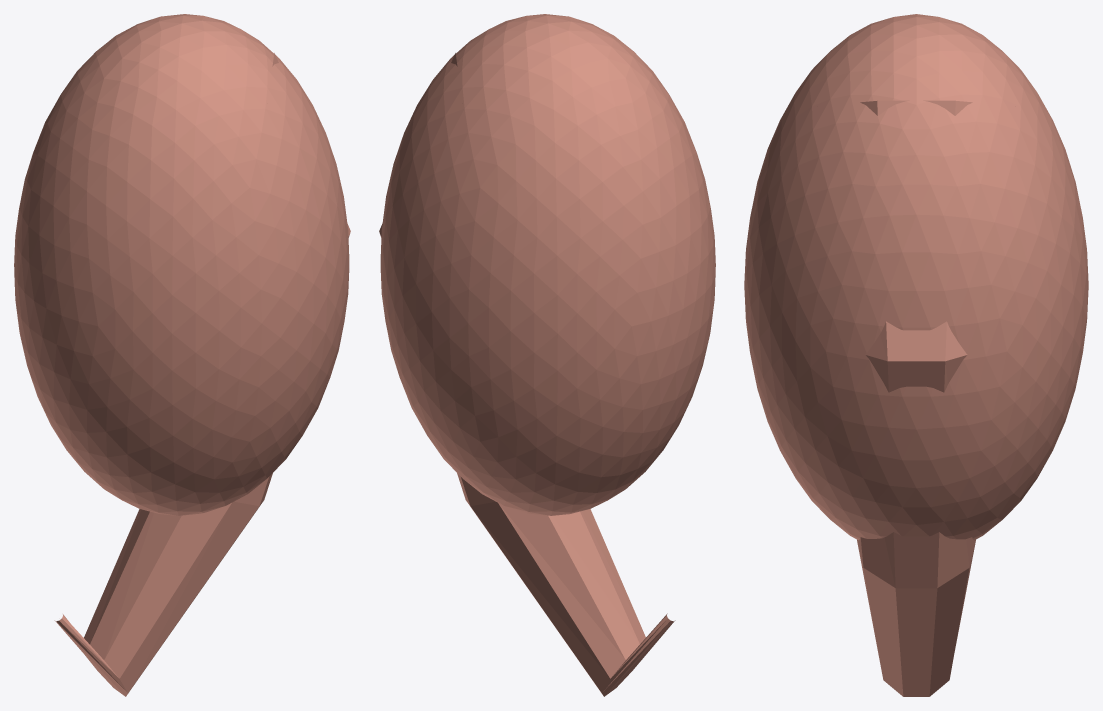
3 renders of one model, left to right at view 1: azimuth 30°, elevation 25°; view 2: azimuth 150°, elevation 25°; view 3: azimuth 270°, elevation 25°, orthographic. The views are drawn at different scales.
Visible parts, largest first — view 1: seahorse_00, seahorse_01; view 2: seahorse_00, seahorse_01; view 3: seahorse_00, seahorse_01.
Part boxes in pixels (x1,y1,x2,y2): seahorse_00: (14,14,349,515); seahorse_01: (54,53,350,696); seahorse_00: (380,14,715,515); seahorse_01: (379,53,675,696); seahorse_00: (744,14,1088,540); seahorse_01: (817,100,1015,696).
Size of the model in its own units: 0.986 by 2.03 by 0.9.
